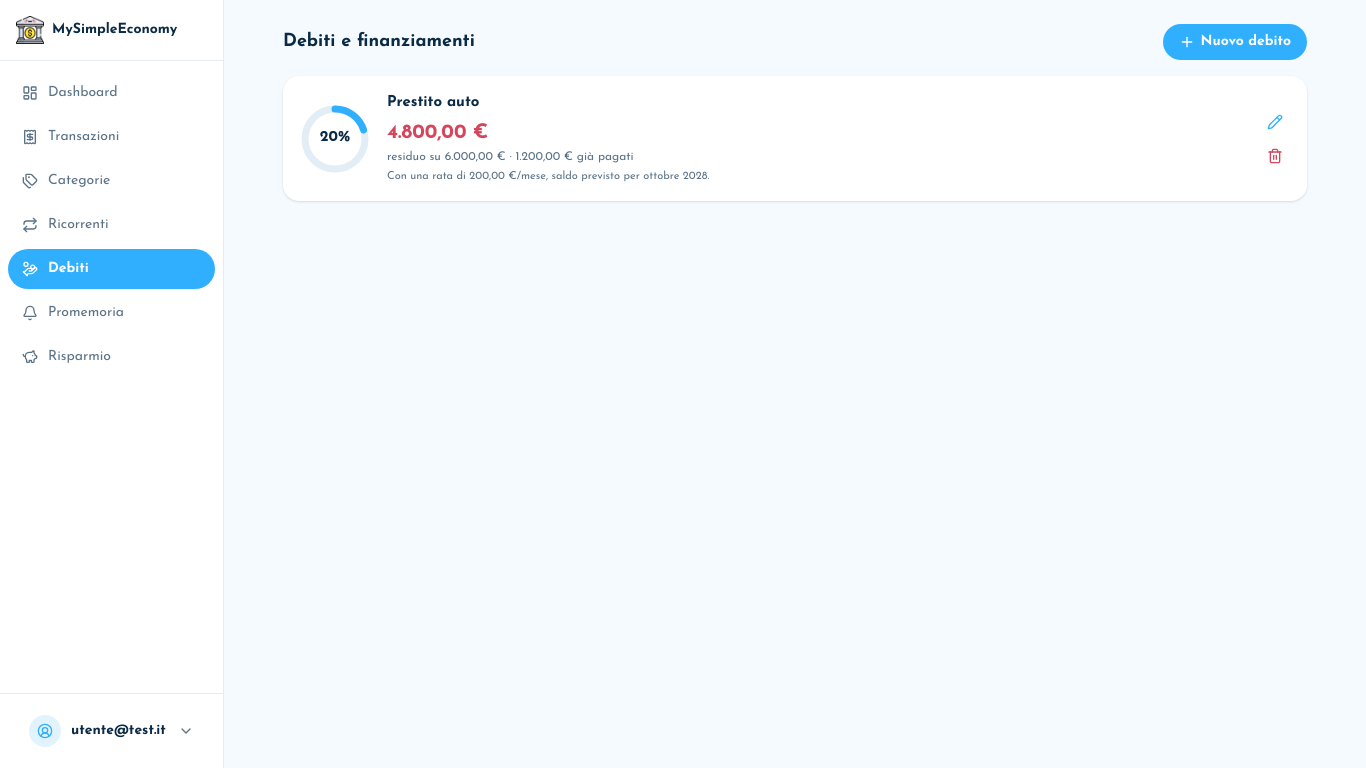
Scenario: tornare su una pagina già vista › la mostra subito, senza scheletro e senza rifare la richiesta
The width and height of the screenshot is (1366, 768).
expect the text "Prestito auto" is shown: met, box top-left (387, 95), bottom-right (479, 110)
Click the link "Promemoria" at point(73, 313), box top-left (22, 305), bottom-right (124, 321)
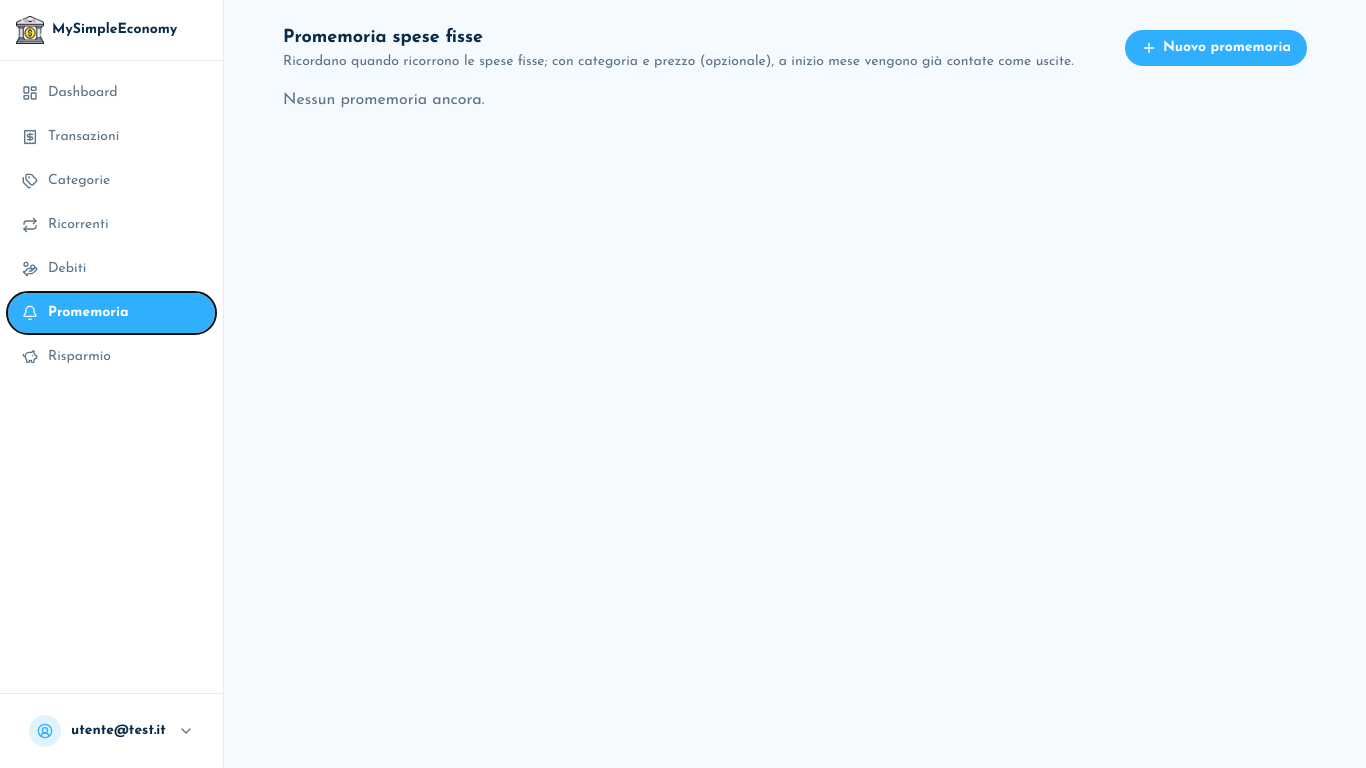
expect the heading "Promemoria spese fisse" is shown: met, box top-left (283, 28), bottom-right (483, 47)
Click the link "Debiti" at point(54, 269), box top-left (22, 261), bottom-right (86, 277)
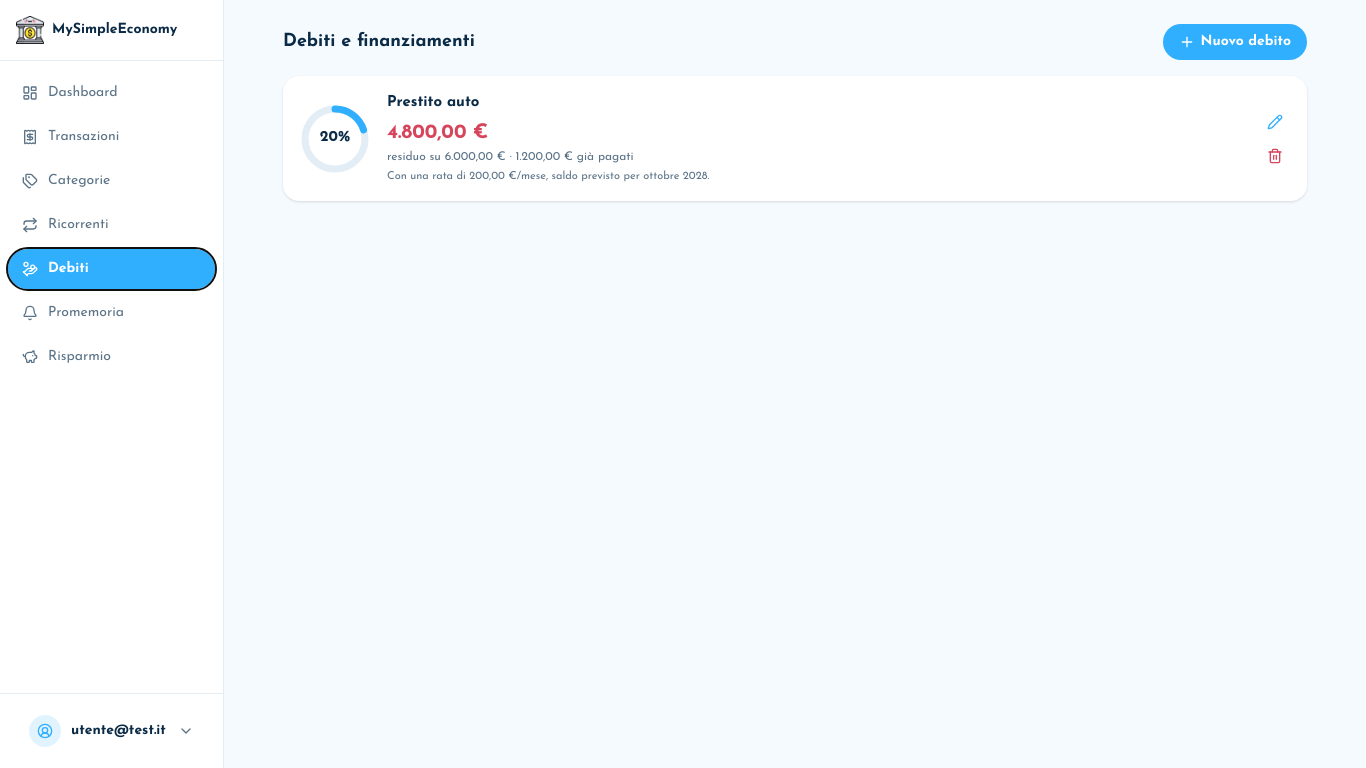
expect the text "Prestito auto" is shown: met, box top-left (387, 95), bottom-right (479, 110)
